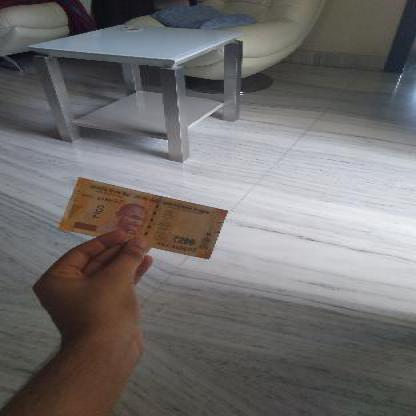New200Front: (64, 176, 227, 259)
